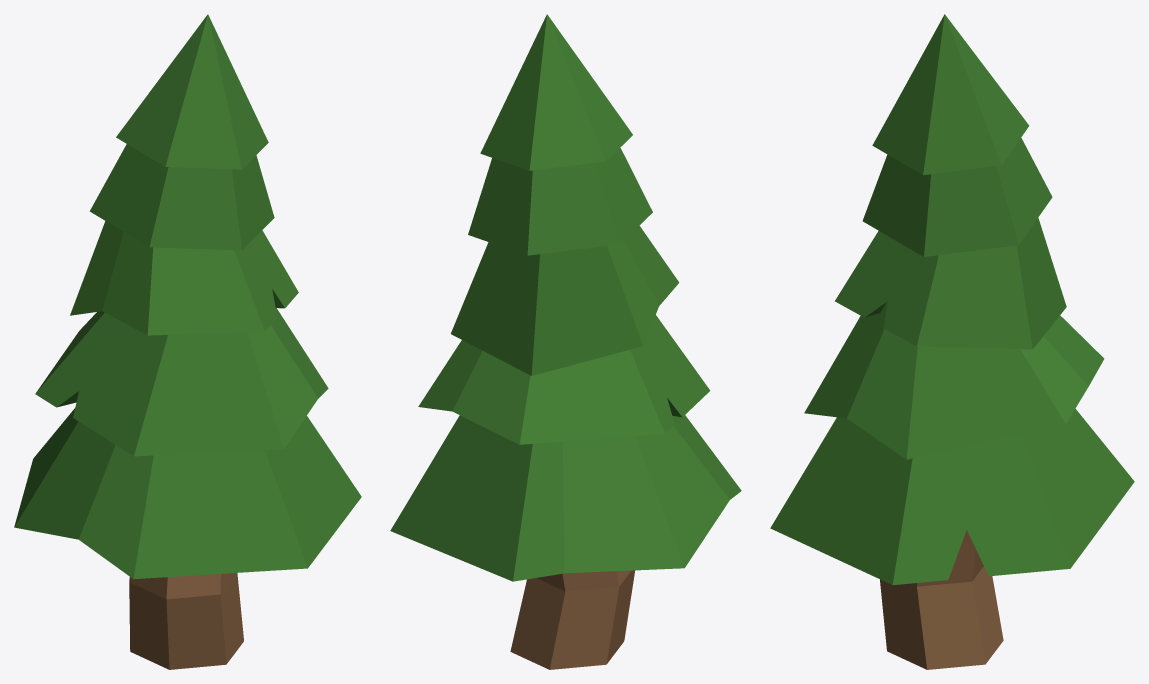
Rendered from SingleTree.gltf.
3 views of the same model, side by side, from view 1: azimuth 30°, elevation 25°; view 2: azimuth 150°, elevation 25°; view 3: azimuth 270°, elevation 25° (orthographic). The views are drawn at different scales.
Parts seen in each view (by area): view 1: Cylinder.001, Cylinder.002, Cylinder.003, Cylinder.004, Cylinder.005, Trunk2; view 2: Cylinder.001, Cylinder.003, Cylinder.002, Cylinder.004, Cylinder.005, Trunk2; view 3: Cylinder.001, Cylinder.002, Cylinder.003, Cylinder.005, Cylinder.004, Trunk2.
Part boxes in pixels (<box>): Cylinder.001: <box>14,408,361,579</box>; Cylinder.002: <box>35,308,328,456</box>; Cylinder.003: <box>70,221,298,335</box>; Cylinder.004: <box>89,144,274,250</box>; Cylinder.005: <box>116,14,268,169</box>; Trunk2: <box>129,573,243,669</box>; Cylinder.001: <box>390,415,741,581</box>; Cylinder.003: <box>451,226,679,375</box>; Cylinder.002: <box>418,315,710,444</box>; Cylinder.004: <box>468,147,652,255</box>; Cylinder.005: <box>480,14,632,170</box>; Trunk2: <box>510,570,635,669</box>; Cylinder.001: <box>770,409,1134,585</box>; Cylinder.002: <box>804,301,1104,459</box>; Cylinder.003: <box>835,218,1066,349</box>; Cylinder.005: <box>872,14,1029,175</box>; Cylinder.004: <box>862,138,1052,256</box>; Trunk2: <box>880,530,1003,669</box>.
Bounding box in the file's own units: 2.34 × 4.77 × 2.45.
